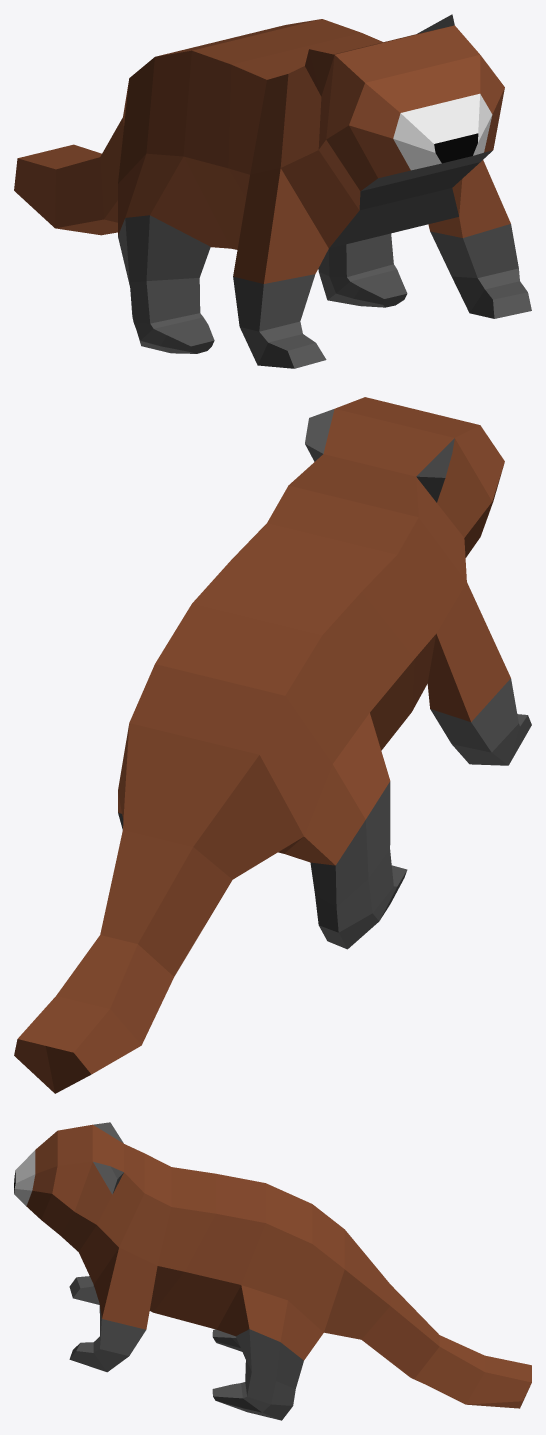
The picture shows the model from 3 angles, top to bottom: view 1: azimuth 30°, elevation 25°; view 2: azimuth 150°, elevation 25°; view 3: azimuth 270°, elevation 25°; orthographic projection. The views are drawn at different scales.
Size of the model in its own units: 47257 by 73384 by 129790.
